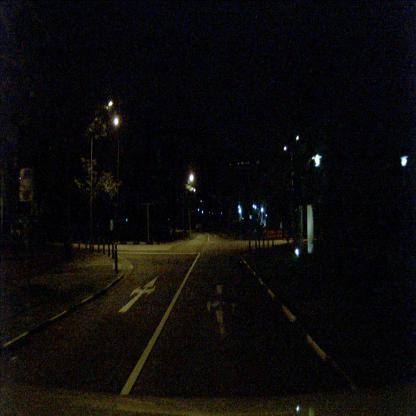movable_object-barrier: (264, 229, 277, 239), (277, 229, 285, 238)
